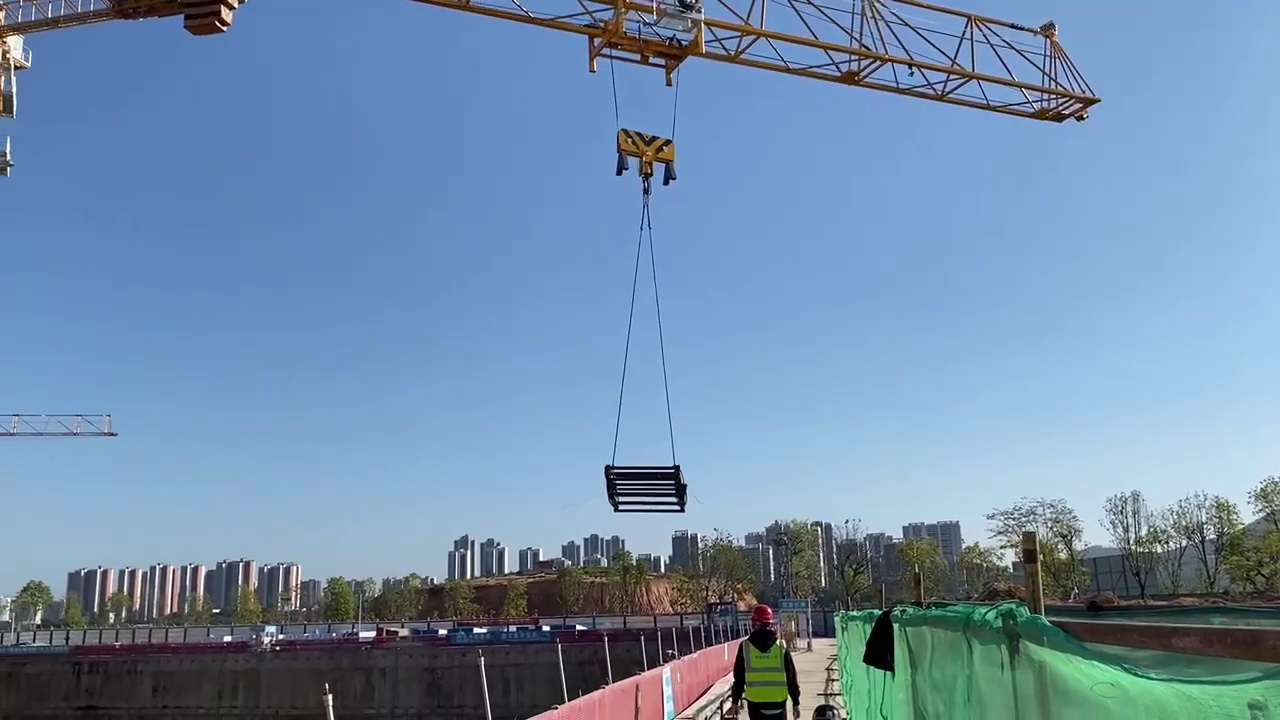fence: (539, 636, 726, 718)
helmet: (751, 604, 776, 624)
hook: (616, 129, 677, 184)
person: (727, 601, 803, 720)
vest: (739, 635, 791, 705)
